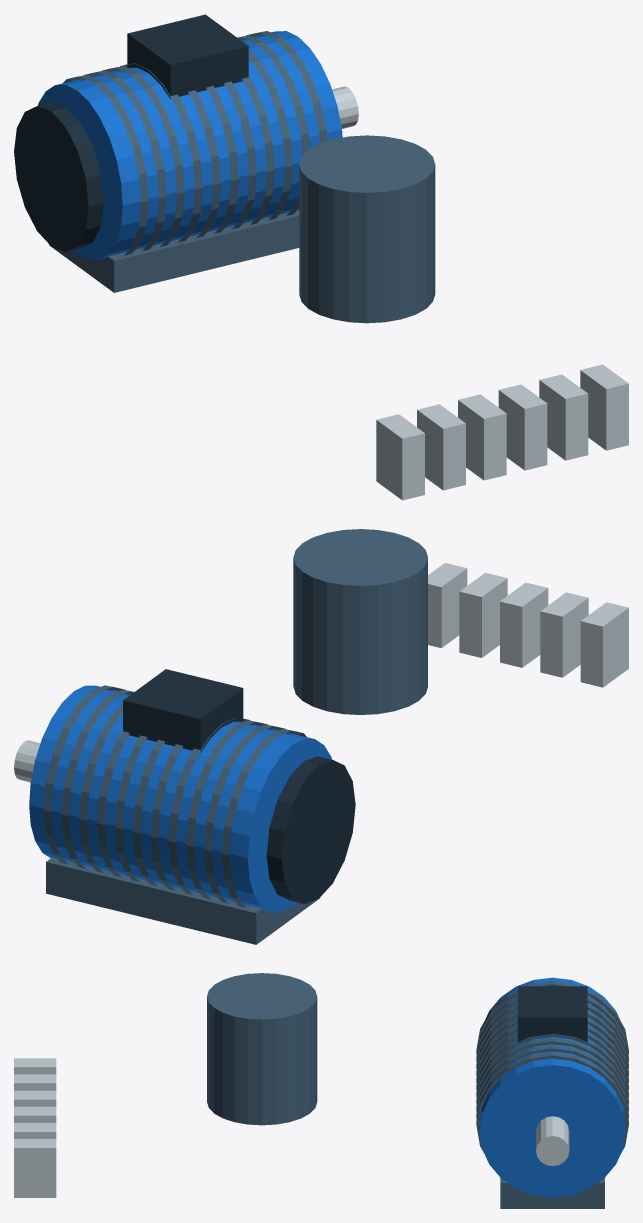
The model's file is 10_L77_BulkPlatenServoDrive.fbx.
3 renders of one model, top to bottom at view 1: azimuth 30°, elevation 25°; view 2: azimuth 150°, elevation 25°; view 3: azimuth 270°, elevation 25°, orthographic. The views are drawn at different scales.
Parts seen in each view (by area): view 1: BulkPlatenServoDrive; view 2: BulkPlatenServoDrive; view 3: BulkPlatenServoDrive.
Part boxes in pixels (box(x1,y1,x2,y2)): BulkPlatenServoDrive: box(14, 14, 628, 500); BulkPlatenServoDrive: box(14, 529, 628, 944); BulkPlatenServoDrive: box(14, 973, 628, 1208).
Bounding box in the file's own units: 131 × 88.75 × 290.
